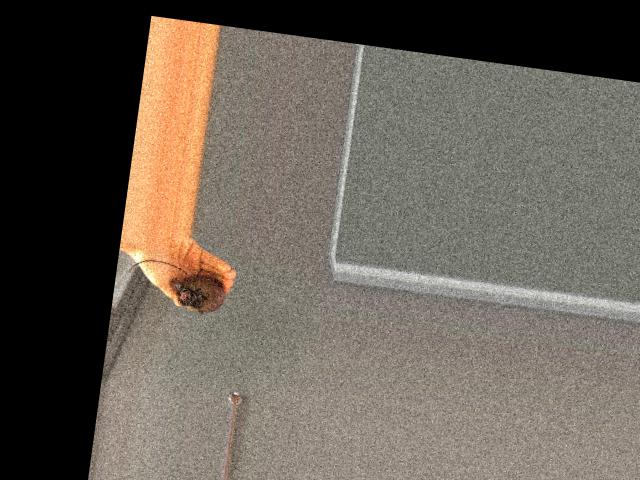beet: (125, 256, 240, 316)
